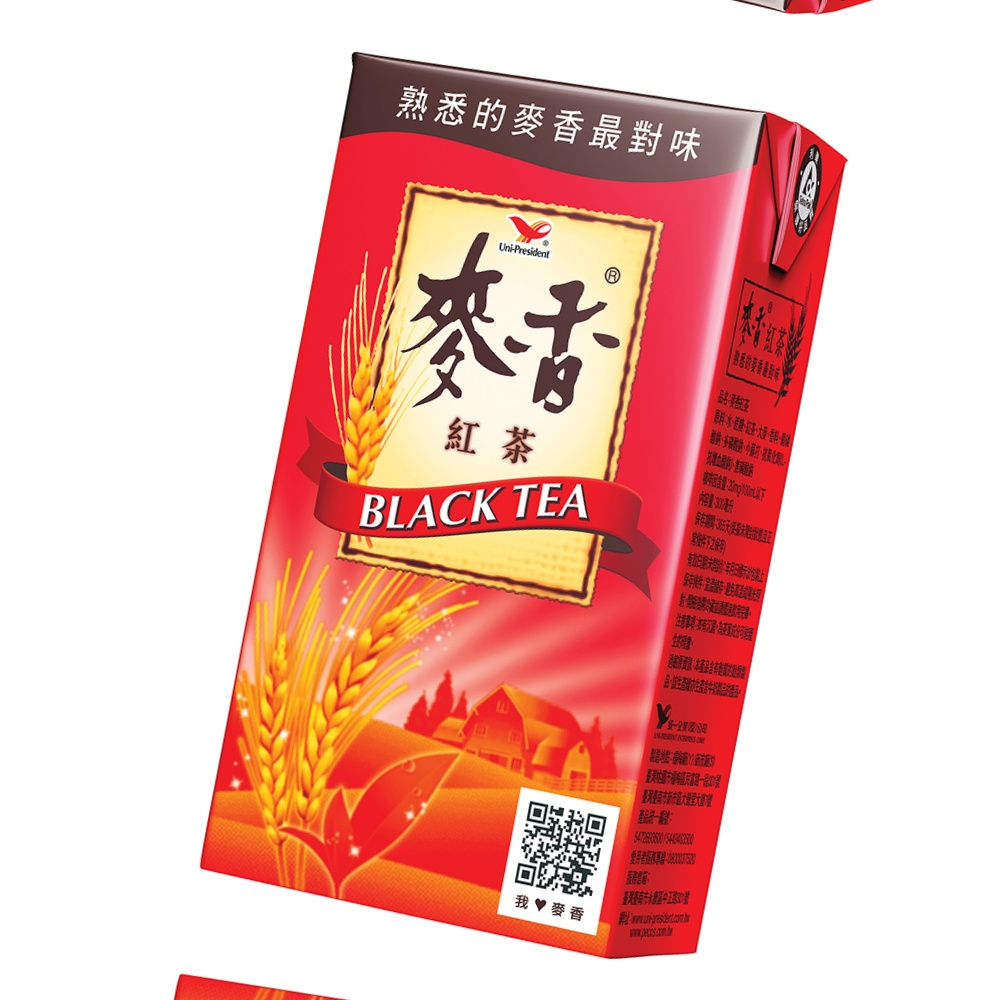鋁箔包: (176, 23, 872, 987), (0, 950, 696, 1000), (356, 0, 1000, 39)
